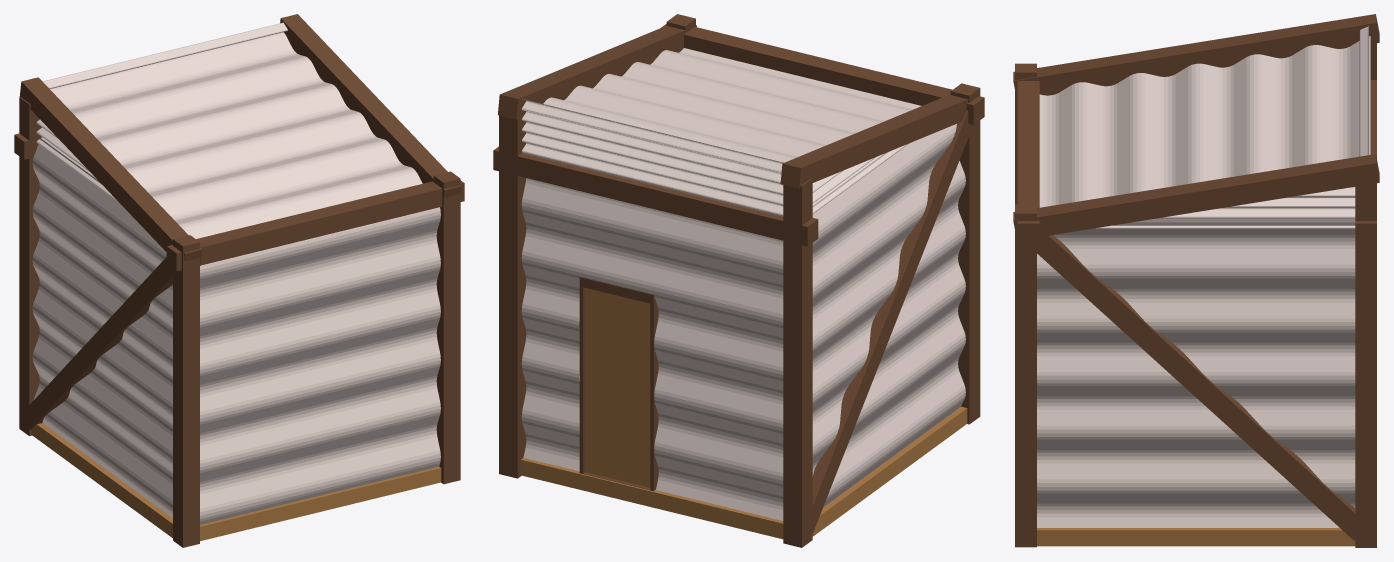
File: Shack1.fbx
The picture shows the model from 3 angles, left to right: view 1: azimuth 30°, elevation 25°; view 2: azimuth 150°, elevation 25°; view 3: azimuth 270°, elevation 25°; orthographic projection. The views are drawn at different scales.
Visible parts, largest first — view 1: Plane.001, Plane.004, Plane, Cube.036, Cube.039, Cube.031, Cube.035, Cube.054, Cube.053, Cube.032, Cube.041, Plane.013 (+1 smaller); view 2: Plane.003, Plane, Plane.004, Plane.013, Cube.033, Cube.032, Cube.037, Cube.031, Cube.041, Cube.038, Cube.039, Cube.036 (+4 smaller); view 3: Plane.002, Plane.004, Cube.040, Cube.053, Cube.054, Cube.037, Cube.035, Cube.031, Plane.011, Cube.039, Plane.013, Cube.038 (+1 smaller).
Boxes of the visible parts, x1,y1,x2,y2 form: Plane.001: (200,207,440,524); Plane.004: (50,32,422,238); Plane: (32,138,172,517); Cube.036: (173,235,199,547); Cube.039: (166,180,464,271); Cube.031: (31,423,441,541); Cube.035: (433,171,460,484); Cube.054: (19,77,202,265); Cube.053: (280,14,461,197); Cube.032: (19,97,41,435); Cube.041: (23,257,182,429); Plane.013: (43,22,287,89); Plane.003: (521,153,783,520); Plane: (812,124,965,507); Plane.004: (521,48,921,173); Plane.013: (522,99,783,215); Cube.033: (585,288,650,487); Cube.032: (783,178,812,547); Cube.037: (499,111,526,478); Cube.031: (520,406,967,539); Cube.041: (807,100,973,532); Cube.038: (493,146,818,246); Cube.039: (661,24,984,124); Cube.036: (950,83,980,424); Plane.002: (1037,218,1355,527); Plane.004: (1039,36,1370,207); Cube.040: (1016,220,1369,540); Cube.053: (1013,154,1379,235); Cube.054: (1013,14,1379,100); Cube.037: (1355,181,1376,547); Cube.035: (1015,204,1036,547); Cube.031: (1037,528,1355,546); Plane.011: (1096,187,1355,228); Cube.039: (1017,81,1039,243); Plane.013: (1359,25,1368,156); Cube.038: (1355,80,1376,243).
Bounding box in the file's own units: 840 × 969 × 836.
